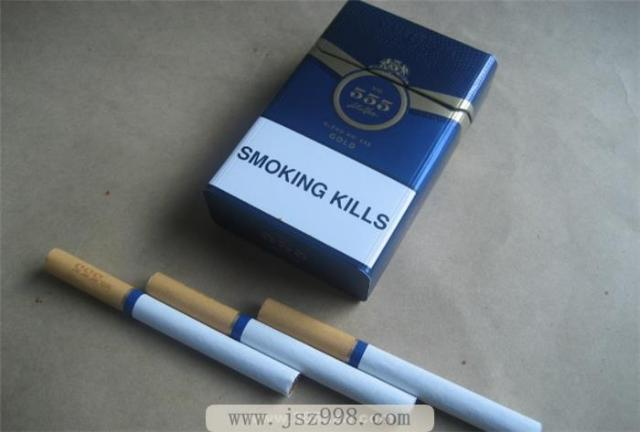Cigarette: (144, 272, 418, 418), (44, 248, 300, 398), (258, 297, 542, 432)
